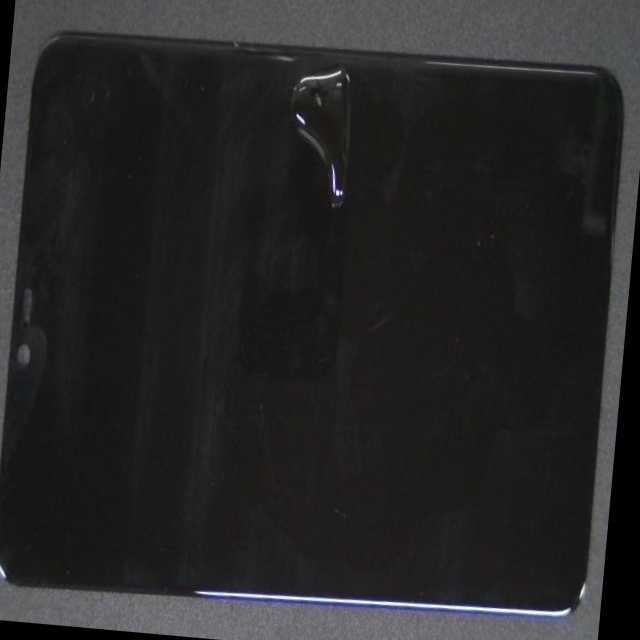oil: (187, 0, 503, 136)
